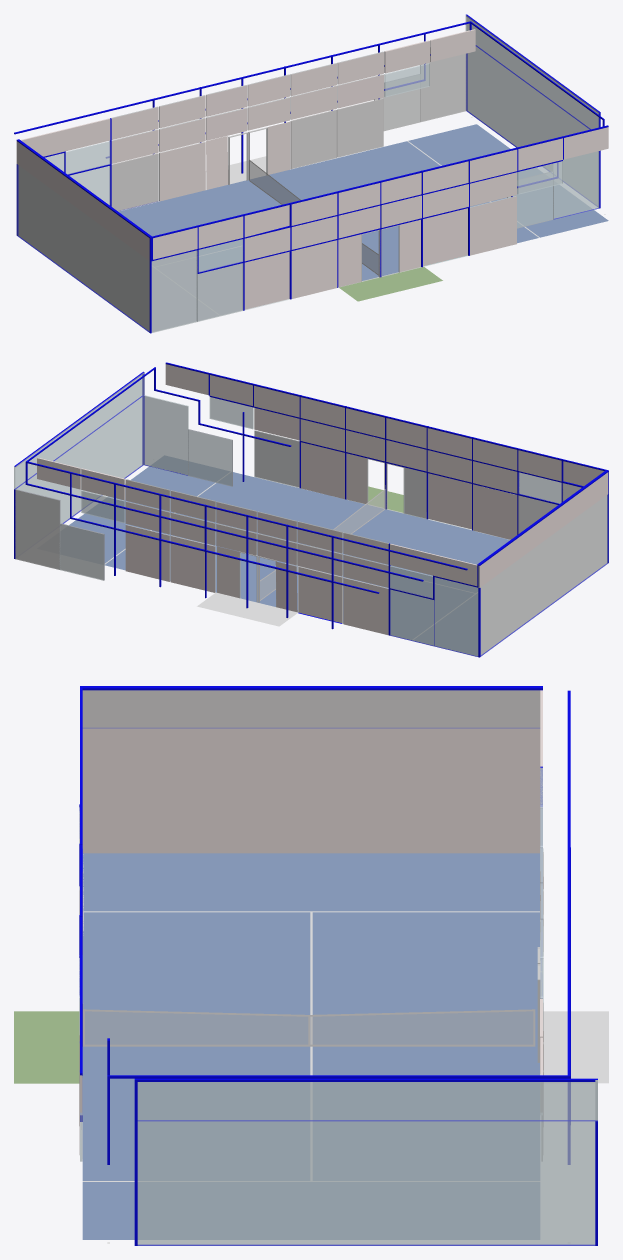
Rendered from padel-court1.glb.
3 renders of one model, top to bottom at view 1: azimuth 30°, elevation 25°; view 2: azimuth 150°, elevation 25°; view 3: azimuth 270°, elevation 25°, orthographic. The views are drawn at different scales.
Visible parts, largest first — view 1: Node71, Node68, Node391, Node357, Node673, Node676, Node672, Node54, Node56, Node87, Node368, Node353 (+74 smaller); view 2: Node71, Node68, Node747, Node391, Node674, Node357, Node673, Node672, Node351, Node370, Node69, Node366 (+76 smaller); view 3: Node68, Node357, Node391, Node674, Node672, Node676, Node747, Node671, Node673, Node361, Node80, Node368 (+16 smaller).
Part boxes in pixels (x1,y1,x2,y2): Node71: [17, 164, 149, 332]; Node68: [18, 166, 149, 331]; Node391: [466, 46, 589, 147]; Node357: [468, 47, 588, 146]; Node673: [408, 124, 608, 237]; Node676: [248, 141, 440, 204]; Node672: [118, 180, 281, 255]; Node54: [151, 250, 197, 332]; Node56: [152, 251, 196, 331]; Node87: [16, 141, 149, 260]; Node368: [465, 15, 598, 129]; Node353: [420, 48, 466, 121]; Node71: [480, 494, 608, 656]; Node68: [480, 495, 606, 654]; Node747: [170, 472, 383, 549]; Node391: [17, 396, 143, 523]; Node674: [329, 509, 509, 592]; Node357: [17, 398, 141, 522]; Node673: [69, 455, 229, 563]; Node672: [258, 562, 473, 639]; Node351: [15, 490, 59, 569]; Node370: [143, 396, 187, 475]; Node69: [434, 577, 478, 656]; Node366: [145, 395, 188, 474]; Node68: [82, 728, 540, 853]; Node357: [137, 1121, 595, 1245]; Node391: [138, 1121, 594, 1244]; Node674: [82, 912, 310, 1044]; Node672: [312, 912, 539, 1046]; Node676: [312, 1046, 539, 1180]; Node747: [82, 1046, 310, 1180]; Node671: [83, 853, 539, 911]; Node673: [82, 1182, 539, 1239]; Node361: [137, 1080, 597, 1121]; Node80: [82, 690, 540, 728]; Node368: [138, 1080, 597, 1119].
Bounding box in the file's own units: 802 × 158 × 512.
